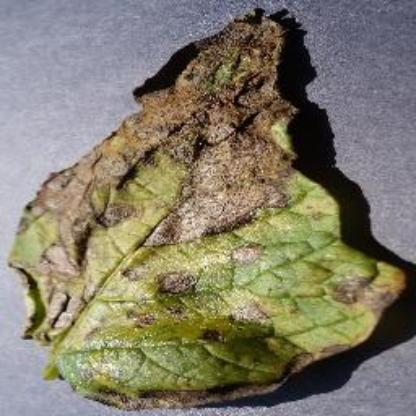Early-Blight: (9, 10, 409, 410)
